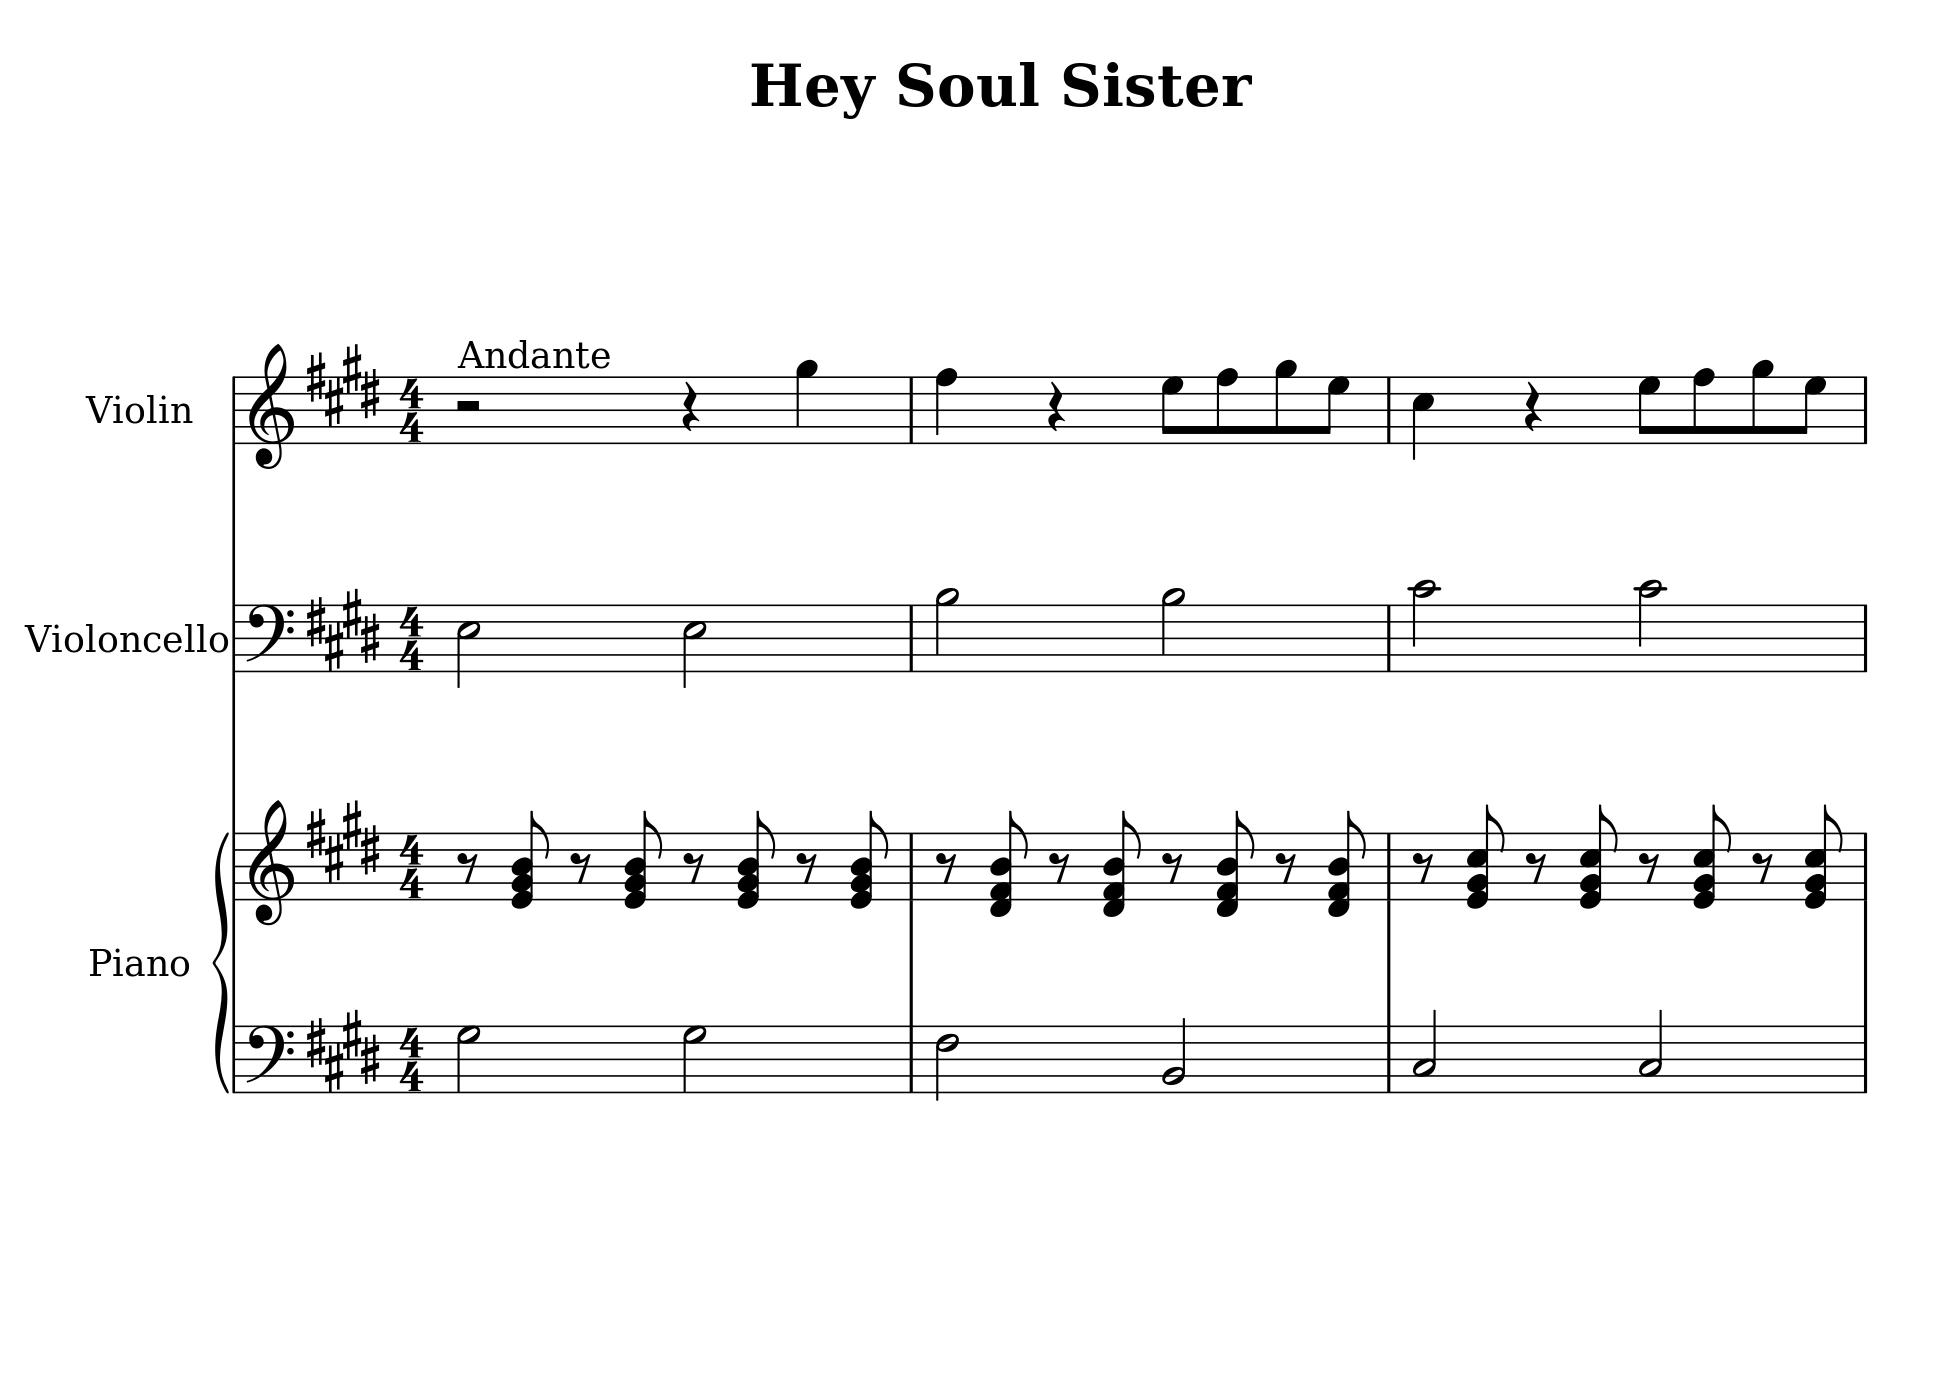2_10: (1635, 576, 1665, 675), (1410, 577, 1438, 673)
2_2: (1161, 1015, 1188, 1093)
2_3: (1638, 1009, 1665, 1093), (1413, 1008, 1438, 1093)
2_5: (454, 603, 481, 688), (681, 603, 706, 688)
2_6: (934, 1024, 958, 1102)
2_7: (454, 1021, 480, 1093), (681, 1023, 706, 1093)
2_9: (934, 585, 960, 673), (1161, 585, 1186, 673)
4: (397, 1023, 426, 1059), (397, 603, 426, 637), (397, 831, 426, 865), (397, 637, 426, 670), (397, 1057, 426, 1090), (397, 375, 424, 409), (397, 409, 424, 442), (397, 865, 424, 898)
4_5: (1410, 373, 1435, 462)
4_8: (933, 366, 958, 445)
4_9: (793, 357, 819, 445)
8_7: (1794, 373, 1827, 445), (1318, 373, 1350, 445), (1636, 373, 1662, 445), (1161, 373, 1185, 445)
8_8: (1213, 366, 1239, 445), (1690, 366, 1716, 445)
8_9: (1273, 358, 1299, 445), (1750, 358, 1776, 445)
8_th: (1575, 802, 1621, 912), (1324, 808, 1369, 919), (987, 808, 1032, 919), (844, 808, 892, 910), (1464, 802, 1507, 912), (1690, 802, 1734, 912), (1801, 802, 1845, 912), (1099, 810, 1143, 919), (1213, 810, 1257, 919), (619, 810, 666, 912), (733, 810, 778, 910), (508, 810, 552, 910)
A_S: (304, 586, 382, 670)
Brace: (211, 829, 229, 1092)
E_S: (303, 798, 382, 885), (304, 343, 382, 426), (304, 1009, 382, 1092)
Fclef: (244, 601, 295, 673), (244, 1021, 294, 1093)
Gclef: (246, 340, 295, 469), (247, 796, 295, 925)
Pno: (85, 943, 193, 979)
Rests2: (451, 397, 484, 414)
Rests4: (1045, 379, 1066, 435), (679, 379, 700, 433), (1522, 379, 1543, 433)
Rests8: (793, 849, 820, 885), (1047, 849, 1074, 885), (1524, 849, 1551, 885), (1636, 849, 1663, 885), (568, 849, 594, 885), (681, 849, 706, 885), (1411, 849, 1437, 885), (1161, 850, 1186, 885), (1273, 850, 1299, 885), (1750, 849, 1776, 883), (934, 849, 958, 885), (456, 850, 480, 885)
Single_barline: (901, 376, 921, 442), (1380, 376, 1398, 442), (901, 832, 919, 898), (1380, 832, 1398, 898), (901, 1024, 919, 1090), (1857, 376, 1873, 442), (903, 604, 919, 670), (1381, 604, 1398, 670), (1857, 604, 1873, 670), (1857, 832, 1873, 898), (1381, 1026, 1398, 1092), (1857, 1026, 1873, 1090), (226, 375, 241, 444), (228, 604, 243, 672), (228, 831, 241, 900), (229, 1024, 241, 1092)
TimeSig: (397, 376, 427, 444), (397, 604, 426, 672), (397, 832, 426, 900), (397, 1024, 426, 1090)
Vln: (79, 391, 195, 427)
